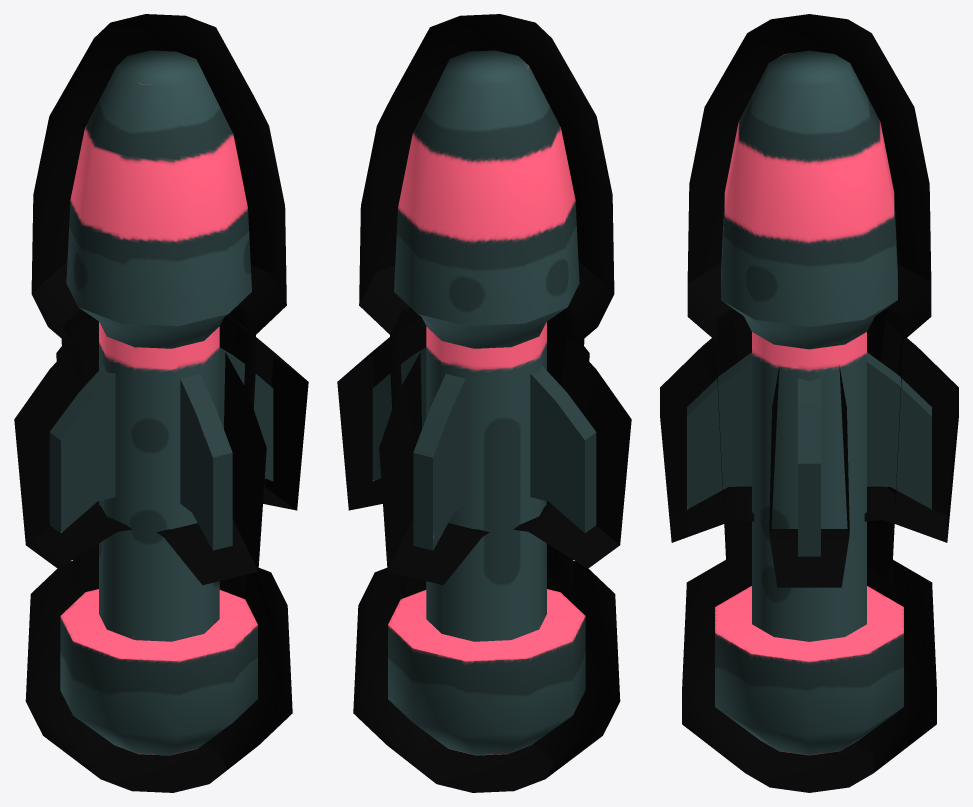
File: homing_bullet.fbx
3 renders of one model, left to right at view 1: azimuth 30°, elevation 25°; view 2: azimuth 150°, elevation 25°; view 3: azimuth 270°, elevation 25°, orthographic.
Parts seen in each view (by area): view 1: homing__bullet, homing_out; view 2: homing__bullet, homing_out; view 3: homing__bullet, homing_out.
Part boxes in pixels (left/top/right/bottom): homing__bullet: left=49, top=50, right=273, bottom=755; homing_out: left=14, top=14, right=308, bottom=792; homing__bullet: left=372, top=50, right=596, bottom=755; homing_out: left=337, top=14, right=631, bottom=792; homing__bullet: left=687, top=50, right=931, bottom=755; homing_out: left=660, top=14, right=958, bottom=792.
Size of the model in its own units: 3.51 by 9.5 by 3.51.
